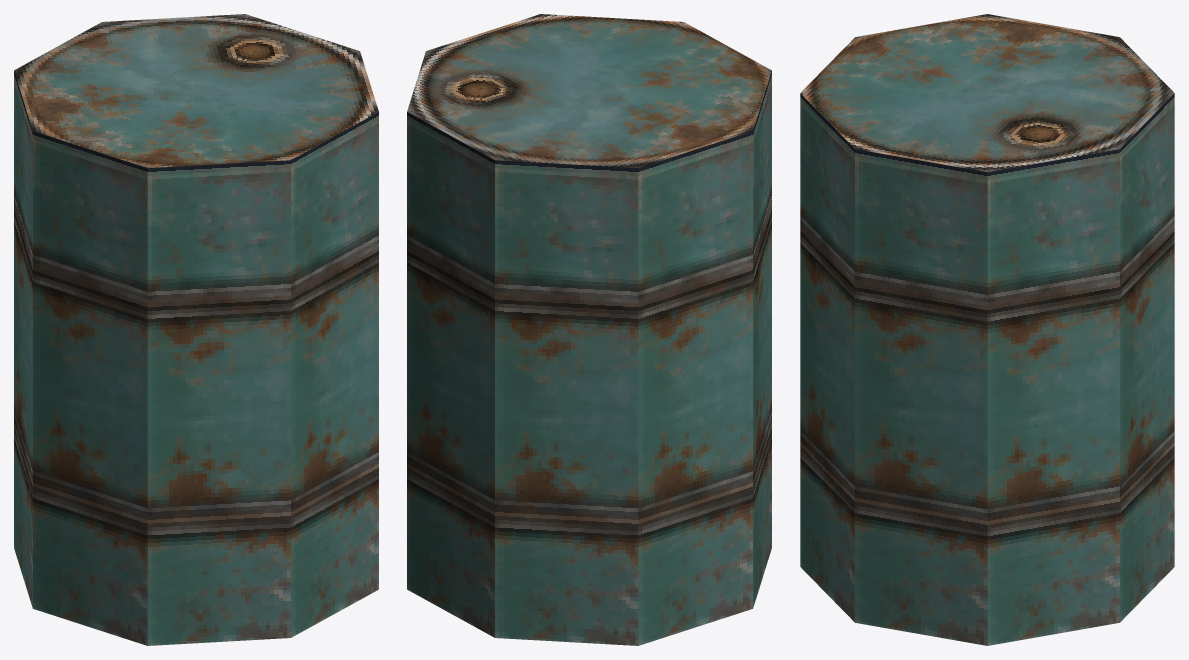
Rendered from barrel.glb.
3 views of the same model, side by side, from view 1: azimuth 30°, elevation 25°; view 2: azimuth 150°, elevation 25°; view 3: azimuth 270°, elevation 25° (orthographic).
Visible parts, largest first — view 1: Visual; view 2: Visual; view 3: Visual.
Part boxes in pixels (<box>): Visual: <box>14,14,378,645</box>; Visual: <box>407,14,771,645</box>; Visual: <box>800,14,1174,645</box>.
Bounding box in the file's own units: 0.86 × 1.2 × 0.86.
1 material, 1 textured.
